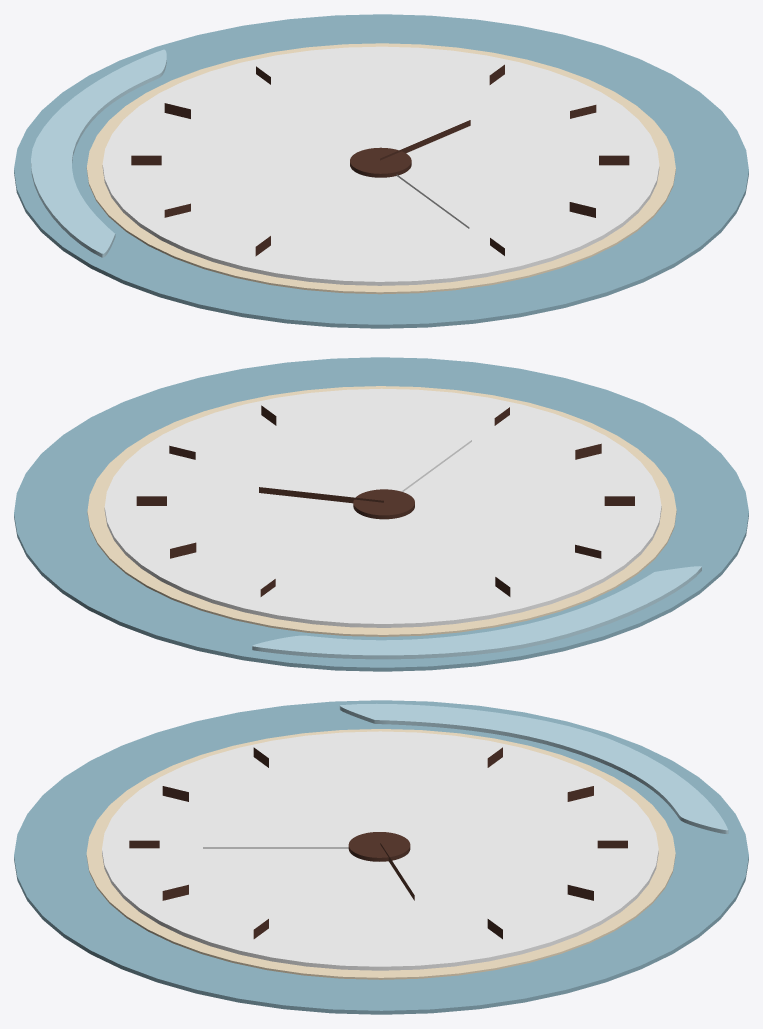
Rendered from emoji_u1f55d.glb.
3 renders of one model, top to bottom at view 1: azimuth 30°, elevation 25°; view 2: azimuth 150°, elevation 25°; view 3: azimuth 270°, elevation 25°, orthographic.
Parts seen in each view (by area): view 1: emoji_u1f55d; view 2: emoji_u1f55d; view 3: emoji_u1f55d.
Boxes of the visible parts, box(x1,y1,x2,y2) form: emoji_u1f55d: box(14, 14, 748, 328); emoji_u1f55d: box(14, 357, 748, 671); emoji_u1f55d: box(14, 700, 748, 1014).
Bounding box in the file's own units: 0.0339 × 0.0018 × 0.0339.
